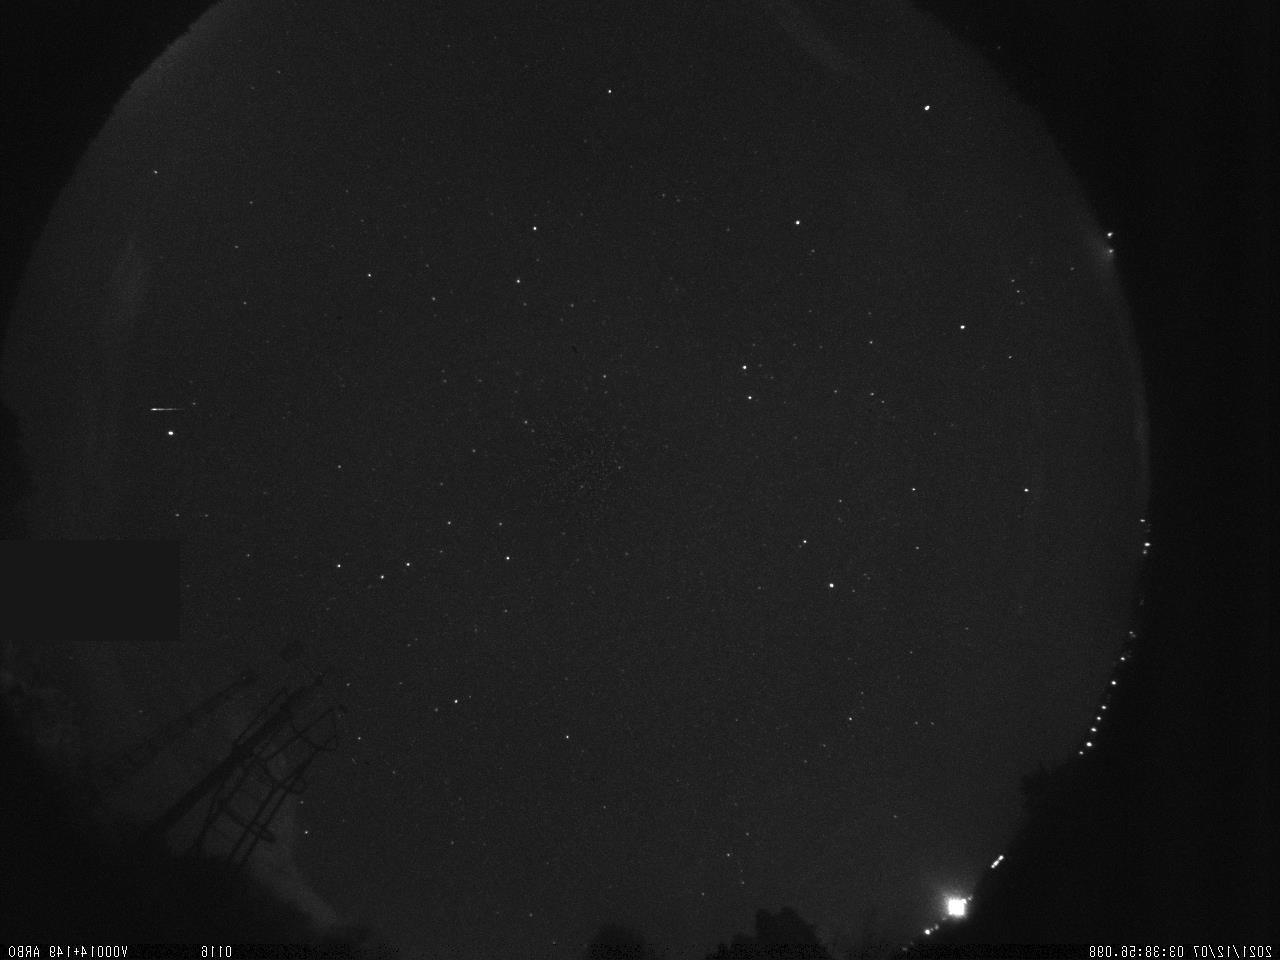meteor: (130, 385, 196, 430)
